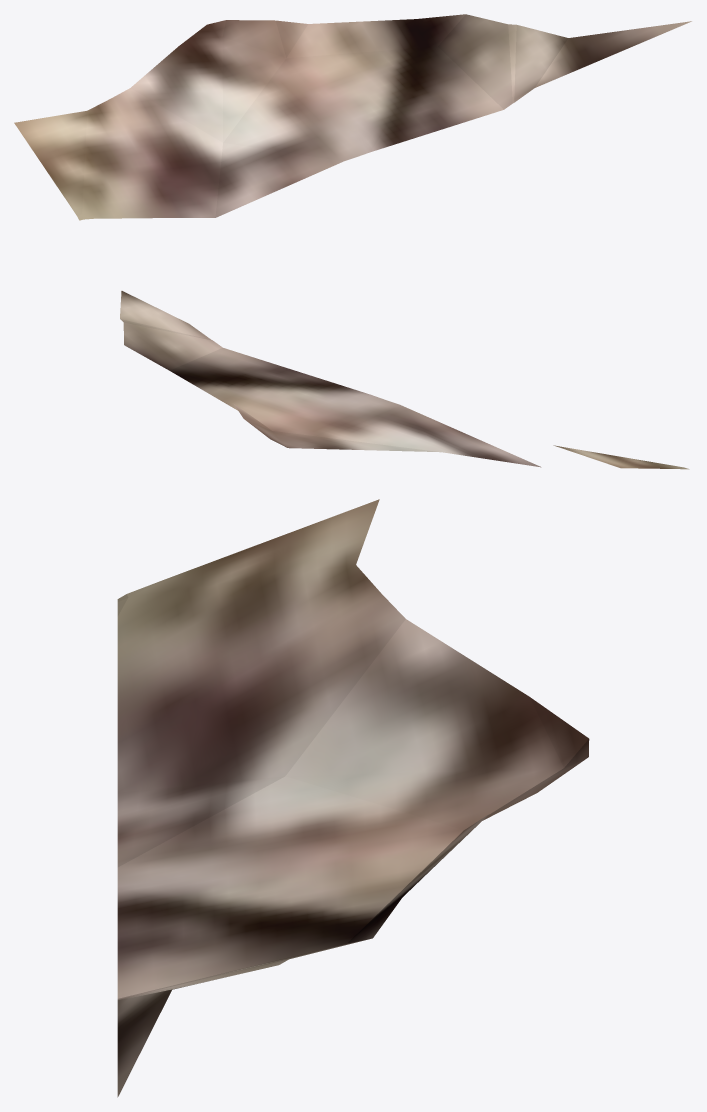
3 renders of one model, top to bottom at view 1: azimuth 30°, elevation 25°; view 2: azimuth 150°, elevation 25°; view 3: azimuth 270°, elevation 25°, orthographic. The views are drawn at different scales.
Bounding box in the file's own units: 0.5803 × 0.0728 × 0.1931.
1 material, 1 textured.
